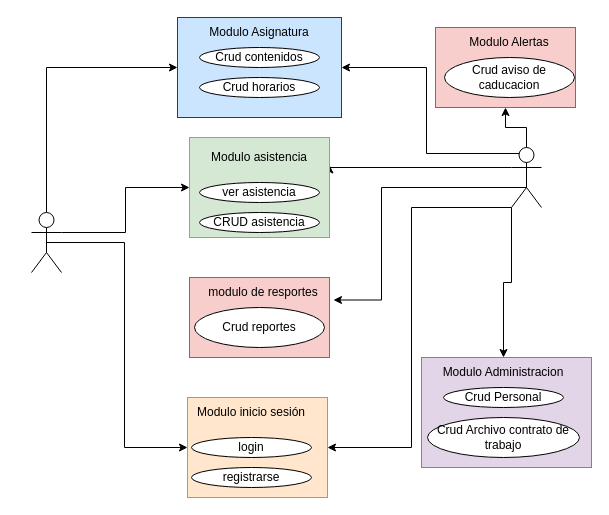
The diagram is 609 pixels wide and 515 high, and some of its shapes have lost their labels. The centre of each missing label's shape, as x and y in pixels:
"Administrativos" belongs at point 526,177.
"Profesores" belongs at point 46,242.
